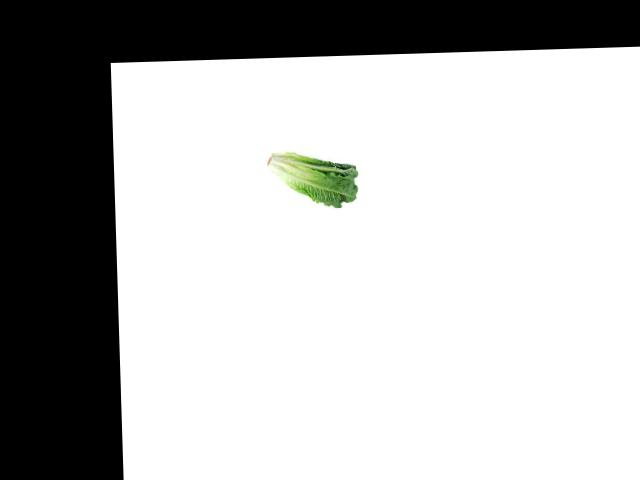lettuce: (261, 147, 361, 208)
